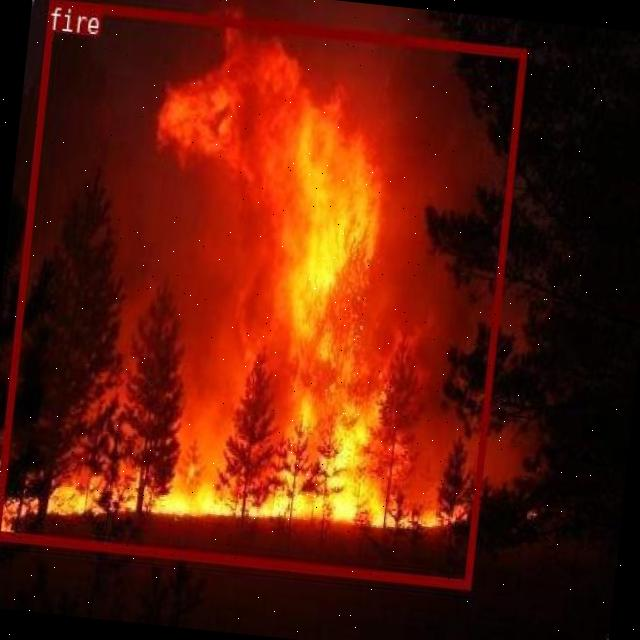fire: (0, 0, 525, 586)
